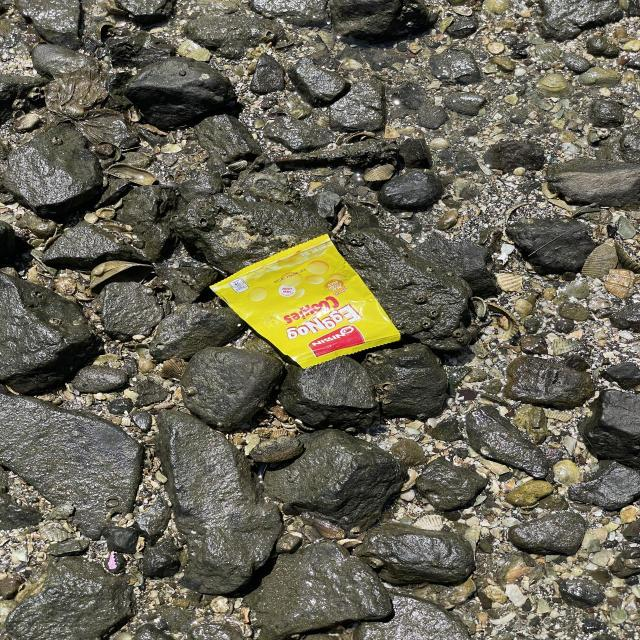plastic_waste: (209, 233, 404, 371)
